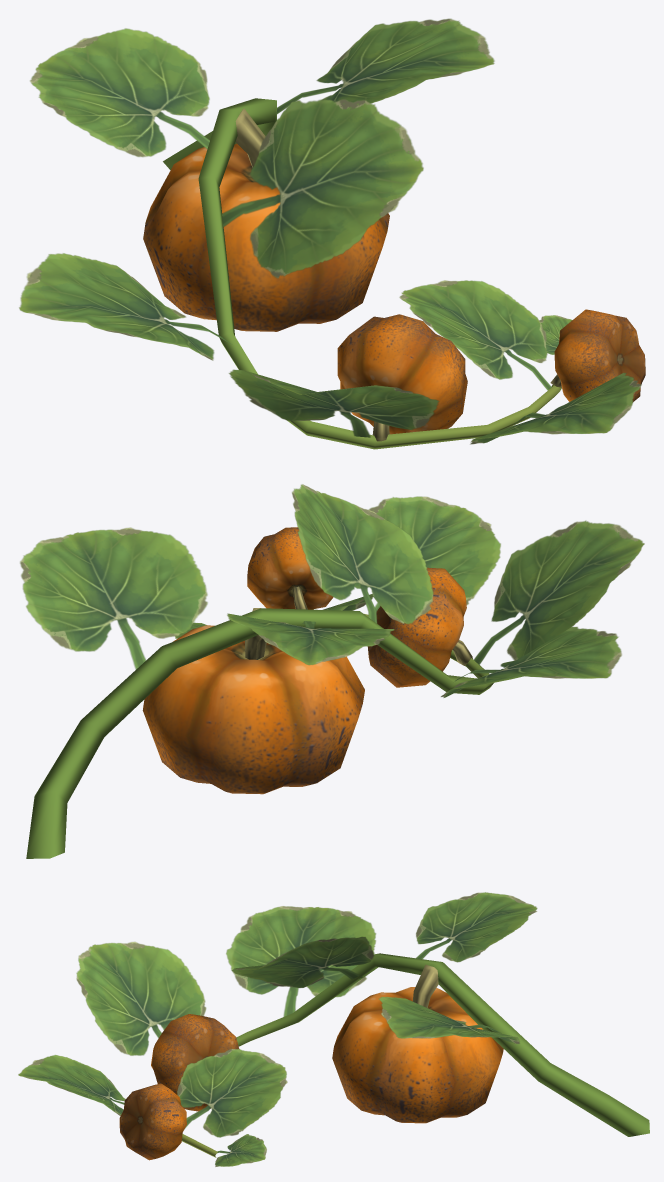
The model's file is plant_pumpkin_S3.gltf.
The picture shows the model from 3 angles, top to bottom: view 1: azimuth 30°, elevation 25°; view 2: azimuth 150°, elevation 25°; view 3: azimuth 270°, elevation 25°; orthographic projection. The views are drawn at different scales.
Parts seen in each view (by area): view 1: plant_pumpkin_S3, plant_pumpkin_S3_crop; view 2: plant_pumpkin_S3, plant_pumpkin_S3_crop; view 3: plant_pumpkin_S3, plant_pumpkin_S3_crop.
Boxes of the visible parts, x1,y1,x2,y2 form: plant_pumpkin_S3: [19, 18, 641, 449]; plant_pumpkin_S3_crop: [143, 108, 645, 441]; plant_pumpkin_S3: [20, 484, 644, 858]; plant_pumpkin_S3_crop: [142, 527, 472, 794]; plant_pumpkin_S3: [18, 892, 649, 1166]; plant_pumpkin_S3_crop: [119, 964, 503, 1160].
Bounding box in the file's own units: 0.8528 × 0.3885 × 1.2.
1 material, 1 textured.
